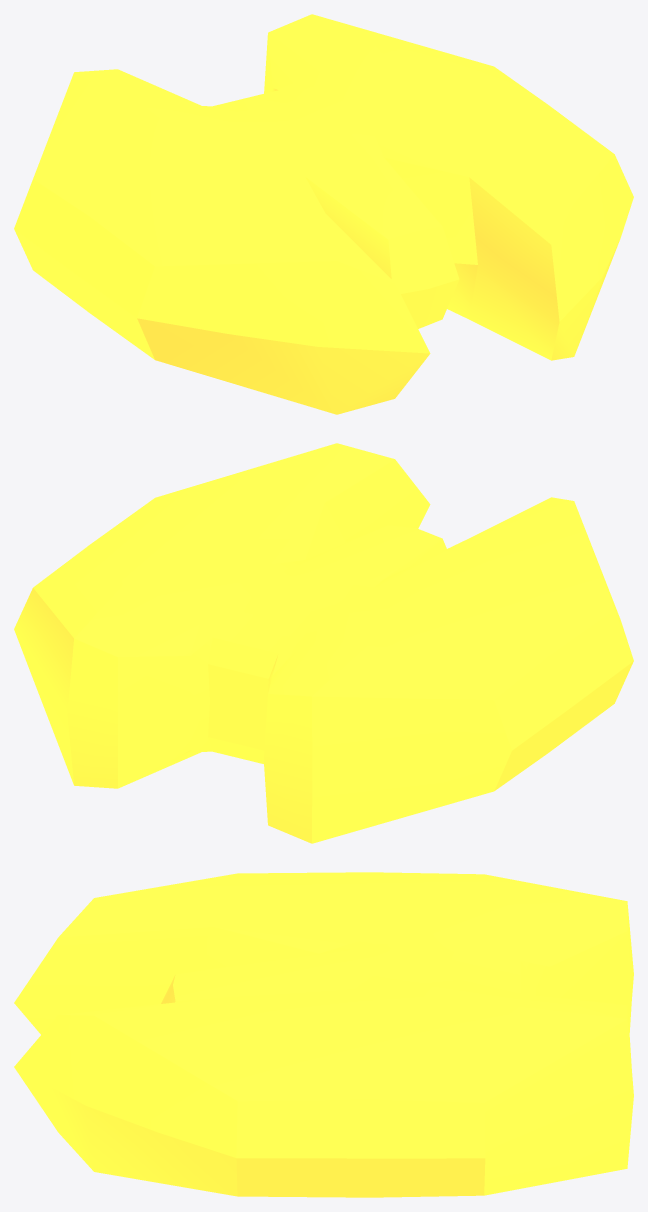
Rendered from 01_ship_light_dauwn_aegis.glb.
The picture shows the model from 3 angles, top to bottom: view 1: azimuth 30°, elevation 25°; view 2: azimuth 150°, elevation 25°; view 3: azimuth 270°, elevation 25°; orthographic projection.
Visible parts, largest first — view 1: 01_ship_light_dauwn_aegis; view 2: 01_ship_light_dauwn_aegis; view 3: 01_ship_light_dauwn_aegis.
Boxes of the visible parts, <box> form: 01_ship_light_dauwn_aegis: <box>14,14,633,414</box>; 01_ship_light_dauwn_aegis: <box>14,443,633,843</box>; 01_ship_light_dauwn_aegis: <box>14,872,633,1197</box>.
Bounding box in the file's own units: 1.1 × 0.3739 × 1.16.
